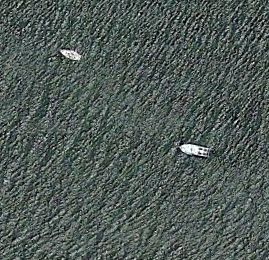boat: (178, 143, 212, 159), (58, 48, 84, 63)
